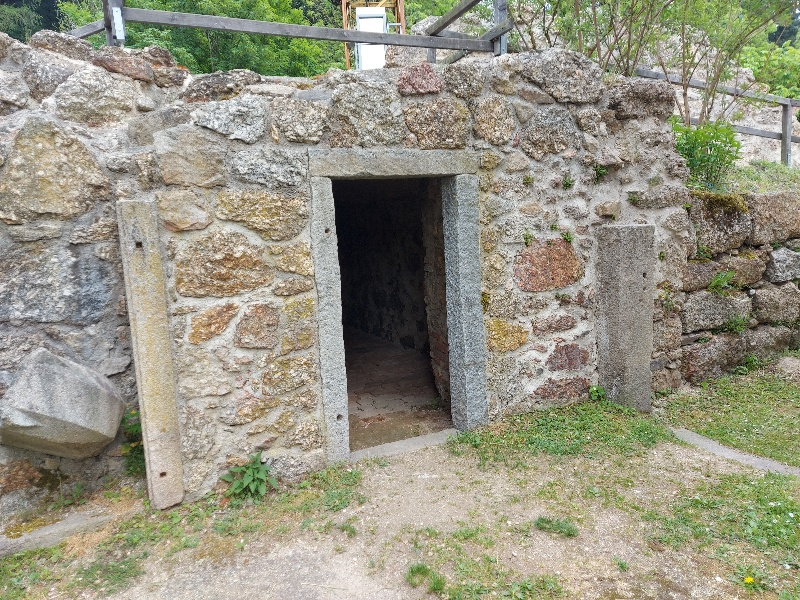door2: (297, 137, 505, 458)
